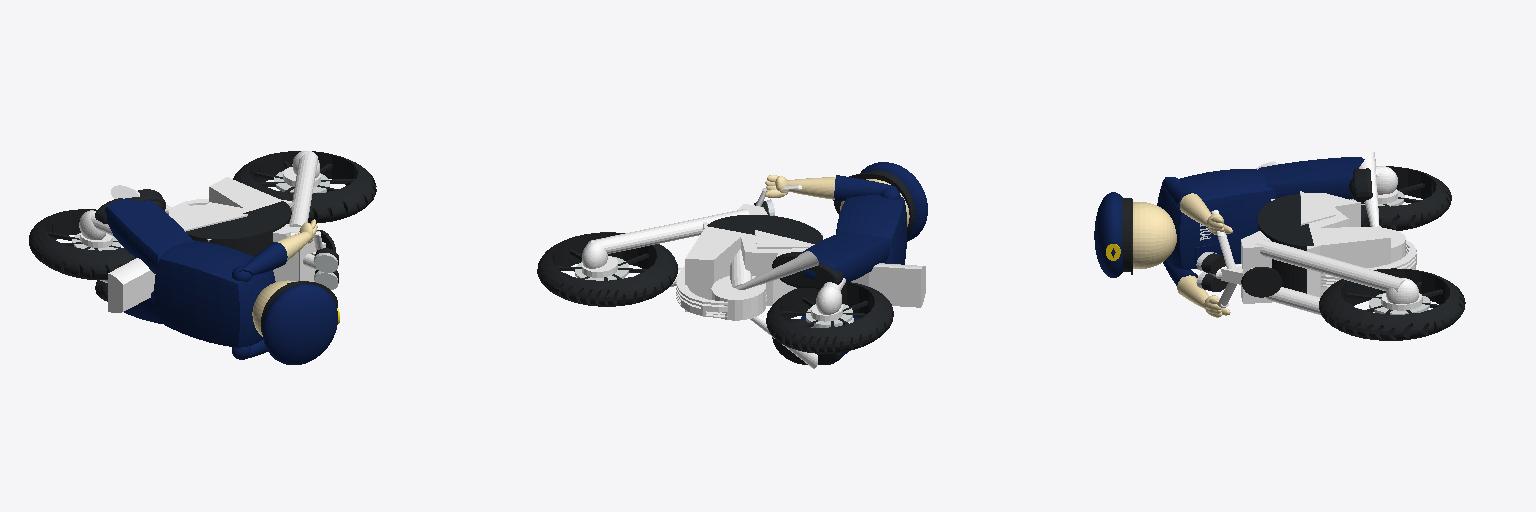
Rendered from tinker.obj.
3 views of the same model, side by side, from view 1: azimuth 30°, elevation 25°; view 2: azimuth 150°, elevation 25°; view 3: azimuth 270°, elevation 25° (orthographic).
Visible parts, largest first — view 1: obj_0; view 2: obj_0; view 3: obj_0.
Part boxes in pixels (x1,y1,x2,y2): obj_0: (29, 151, 376, 364); obj_0: (537, 162, 927, 368); obj_0: (1094, 152, 1465, 340).
Bounding box in the file's own units: 150 × 50.9 × 145.